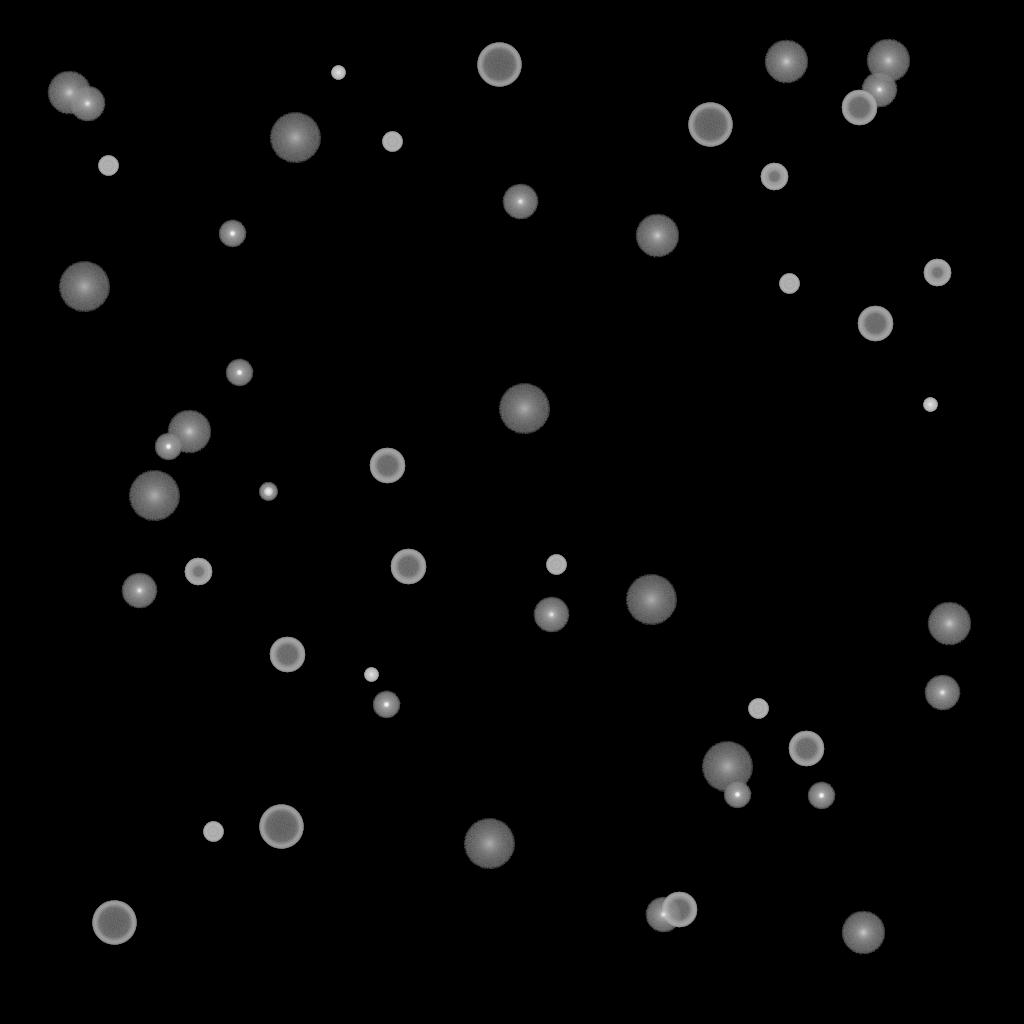depth:-10: (225, 359, 253, 387), (218, 220, 246, 248), (723, 781, 751, 809), (154, 433, 182, 461), (807, 782, 835, 810), (372, 691, 400, 719)
depth:-20: (259, 483, 277, 501)
depth:-30: (331, 66, 345, 80), (923, 398, 937, 412), (364, 668, 378, 682)
depth:-40: (203, 822, 223, 842), (779, 274, 799, 294), (98, 156, 118, 176), (546, 555, 566, 575), (748, 699, 768, 719), (382, 132, 402, 152)
depth:-50: (923, 259, 951, 287), (760, 163, 788, 191), (184, 558, 212, 586)
depth:-60: (788, 731, 824, 767), (369, 448, 405, 484), (269, 637, 305, 673), (857, 306, 893, 342), (390, 549, 426, 585), (661, 892, 697, 928), (841, 90, 877, 126)
depth:-70: (688, 103, 732, 147), (477, 43, 521, 87), (92, 901, 136, 945), (259, 805, 303, 849)
depth:0: (645, 897, 681, 933), (533, 597, 569, 633), (502, 184, 538, 220), (924, 675, 960, 711), (121, 573, 157, 609), (69, 86, 105, 122), (861, 72, 897, 108)
depth:10: (635, 214, 679, 258), (866, 39, 910, 83), (47, 71, 91, 115), (927, 602, 971, 646), (764, 40, 808, 84), (167, 410, 211, 454), (841, 911, 885, 955)
depth:20: (128, 471, 180, 521), (463, 819, 515, 869), (701, 742, 753, 792), (58, 262, 110, 312), (269, 113, 321, 163), (625, 575, 677, 625), (498, 384, 550, 434)
